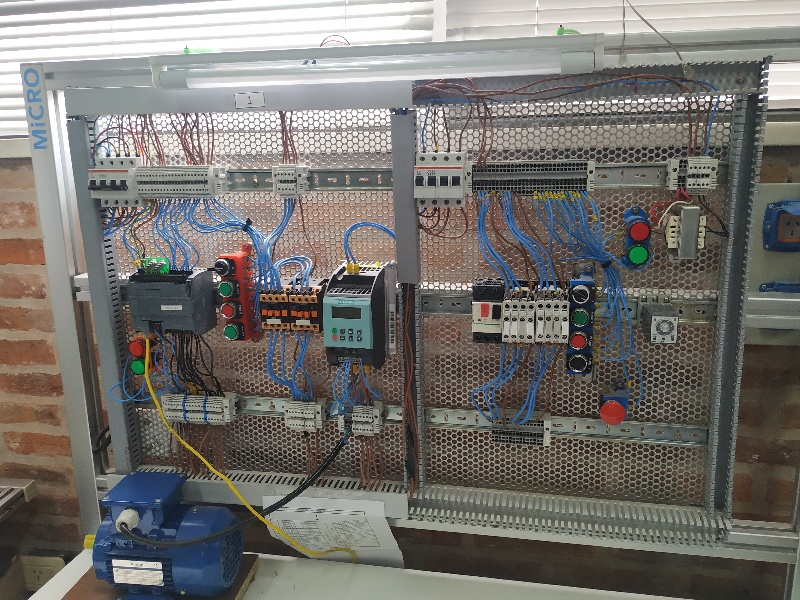Tablero 1: (73, 105, 728, 523)
